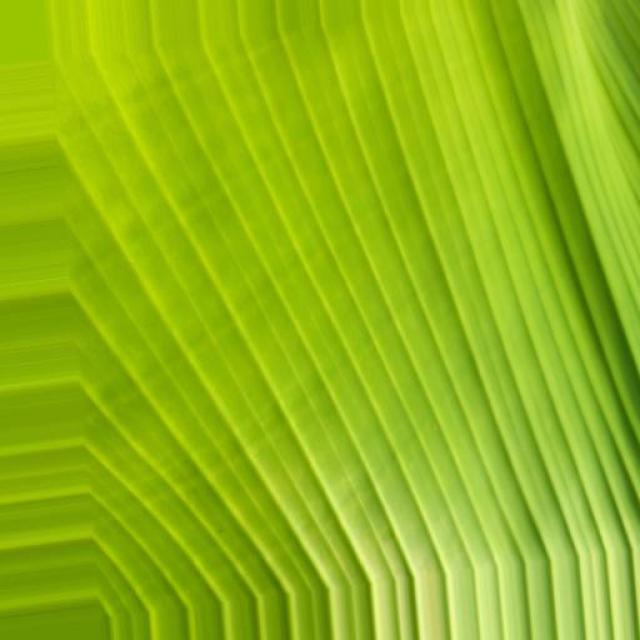Black_leaf_spot: (50, 11, 640, 616)
